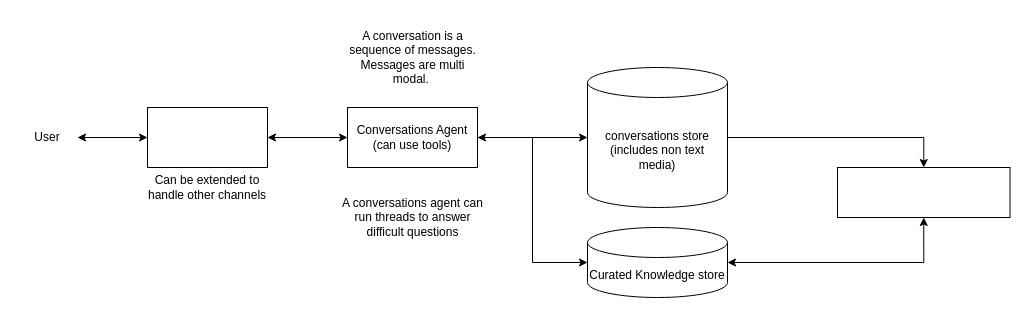
Image size: 1027x315. Some labels were removed from this diagram. The centre of each missing label's shape, as x and y in pixels:
"Background Knowledge Curation Agent (can use tools)" belongs at (923,192).
"Proxy (Used by Mobile/Web App)" belongs at (207,137).
